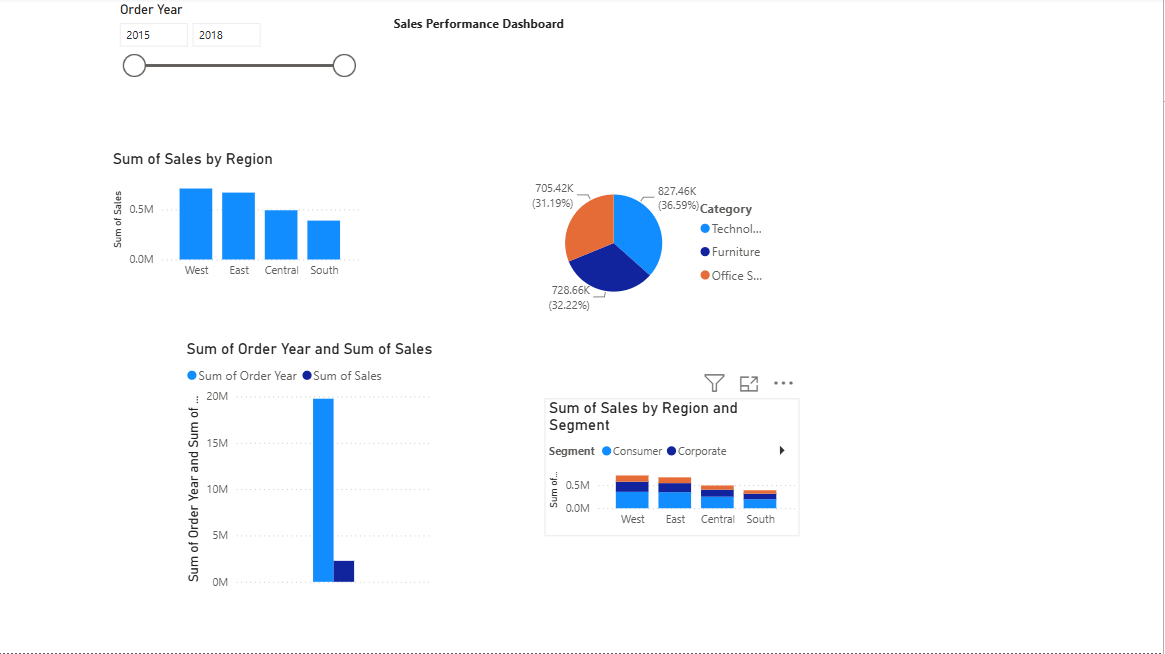

This screenshot's page, from the dashboard's own definition file:
{"tool":"powerbi","page":{"name":"Page 1","canvas":[1280,720],"ordinal":0},"visuals":[{"type":"clusteredColumnChart","fields":{"Category":["cleaned_sales.Region"],"Y":["Sum(cleaned_sales.Sales)"]},"box":[122.1,167.4,279.9,150.9],"z":2},{"type":"pieChart","fields":{"Category":["cleaned_sales.Category"],"Y":["Sum(cleaned_sales.Sales)"]},"box":[577.7,120.8,279.9,279.9],"z":3},{"type":"clusteredColumnChart","fields":{"Y":["Sum(cleaned_sales.Order Year)","Sum(cleaned_sales.Sales)"]},"box":[203.1,376,279.9,279.9],"z":4},{"type":"columnChart","fields":{"Category":["cleaned_sales.Region"],"Series":["cleaned_sales.Segment"],"Y":["Sum(cleaned_sales.Sales)"]},"box":[601,440.5,279.9,150.9],"z":5},{"type":"textbox","box":[426.8,0,580.4,167.4],"z":6},{"type":"slicer","fields":{"Values":["cleaned_sales.Order Year"]},"box":[122,0,280,167],"z":7}]}

Visuals, with their boxes in screenshot pixels (x1, y1, x2, y2), scaled from the page's 1280x720 canvas onto the 1165x654 screenshot:
clusteredColumnChart - cleaned_sales.Region x Sum(cleaned_sales.Sales): x1=111, y1=152, x2=366, y2=289
pieChart - cleaned_sales.Category x Sum(cleaned_sales.Sales): x1=526, y1=110, x2=781, y2=364
clusteredColumnChart - Sum(cleaned_sales.Order Year) x Sum(cleaned_sales.Sales): x1=185, y1=342, x2=440, y2=596
columnChart - cleaned_sales.Region x cleaned_sales.Segment: x1=547, y1=400, x2=802, y2=537
textbox: x1=388, y1=0, x2=917, y2=152
slicer - cleaned_sales.Order Year: x1=111, y1=0, x2=366, y2=152
